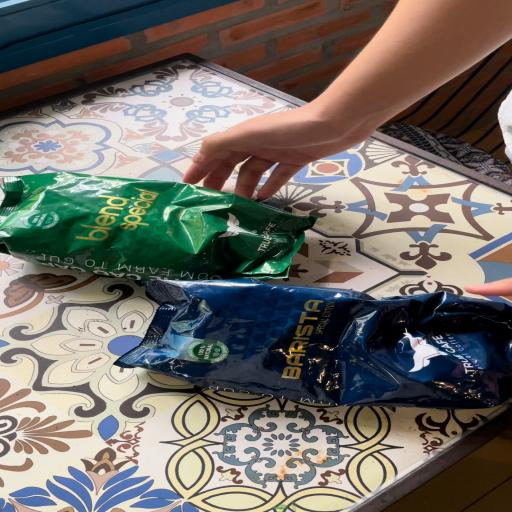cafe_hat: (114, 279, 512, 409)
cafe_xay: (0, 173, 315, 281)
